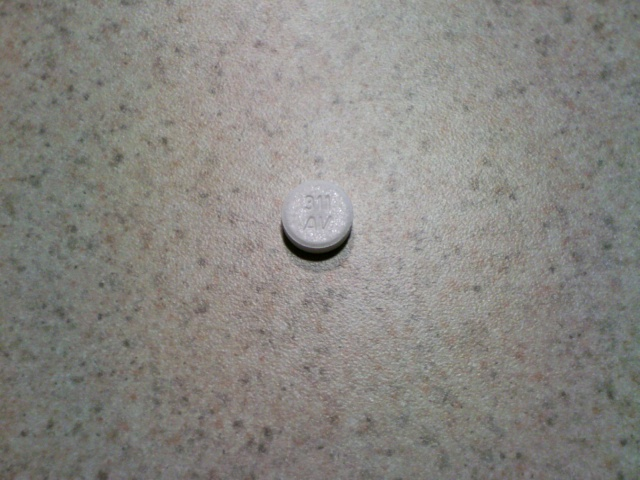1: (314, 192, 323, 214), (324, 193, 333, 214)
3: (302, 195, 315, 214)
A: (301, 216, 316, 232)
V: (318, 215, 334, 231)
